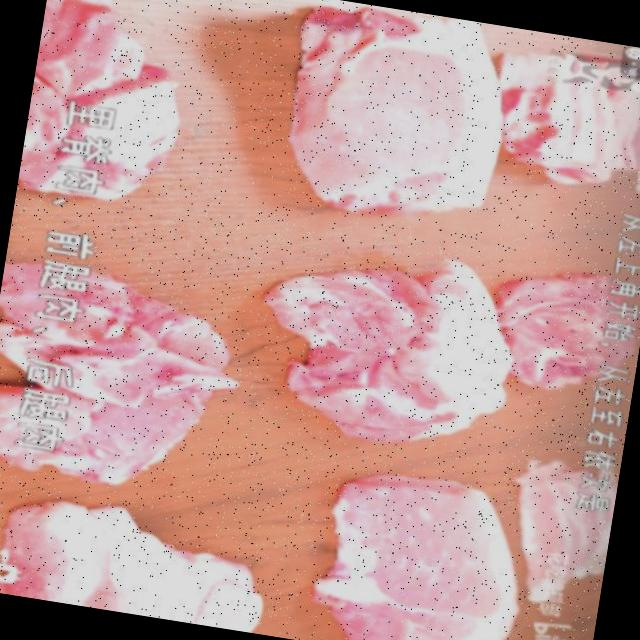pork: (276, 0, 498, 242), (258, 238, 496, 452), (54, 285, 248, 508), (0, 509, 294, 636), (296, 466, 505, 640), (491, 56, 640, 209), (38, 0, 193, 115), (500, 465, 612, 608), (502, 265, 613, 406)
